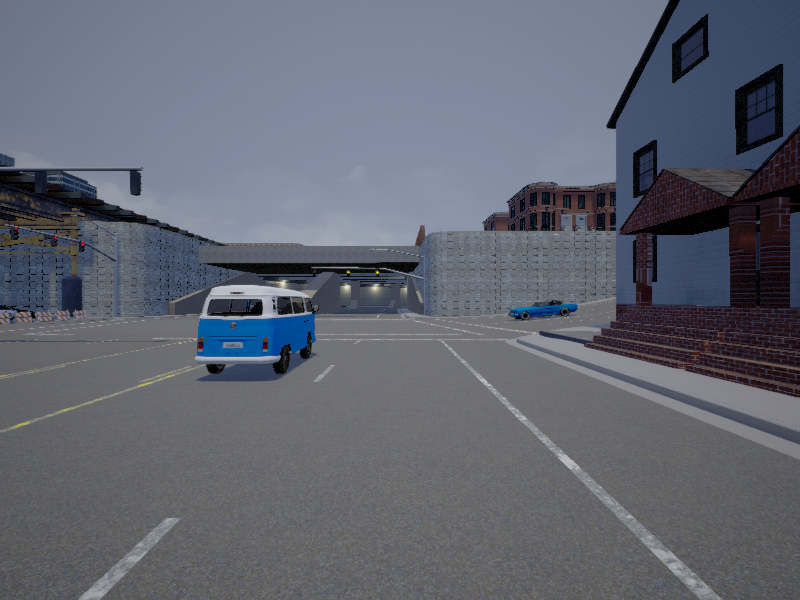Benign: (195, 285, 315, 377), (512, 298, 576, 320)
